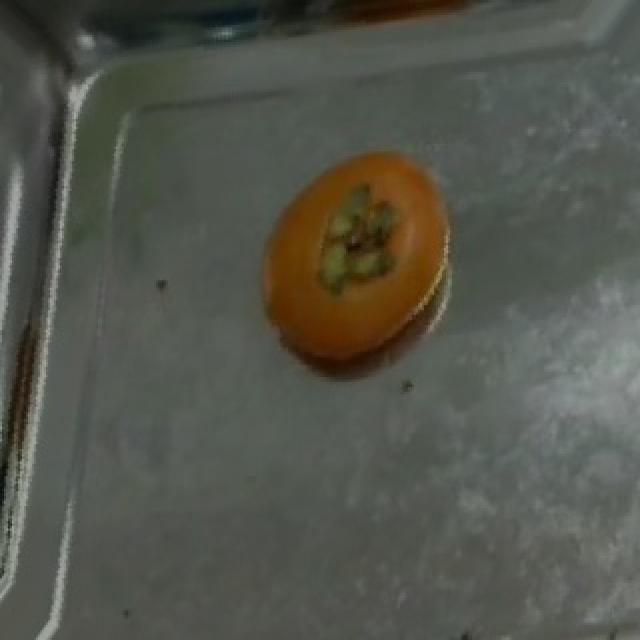Fruit: (236, 139, 478, 384)
